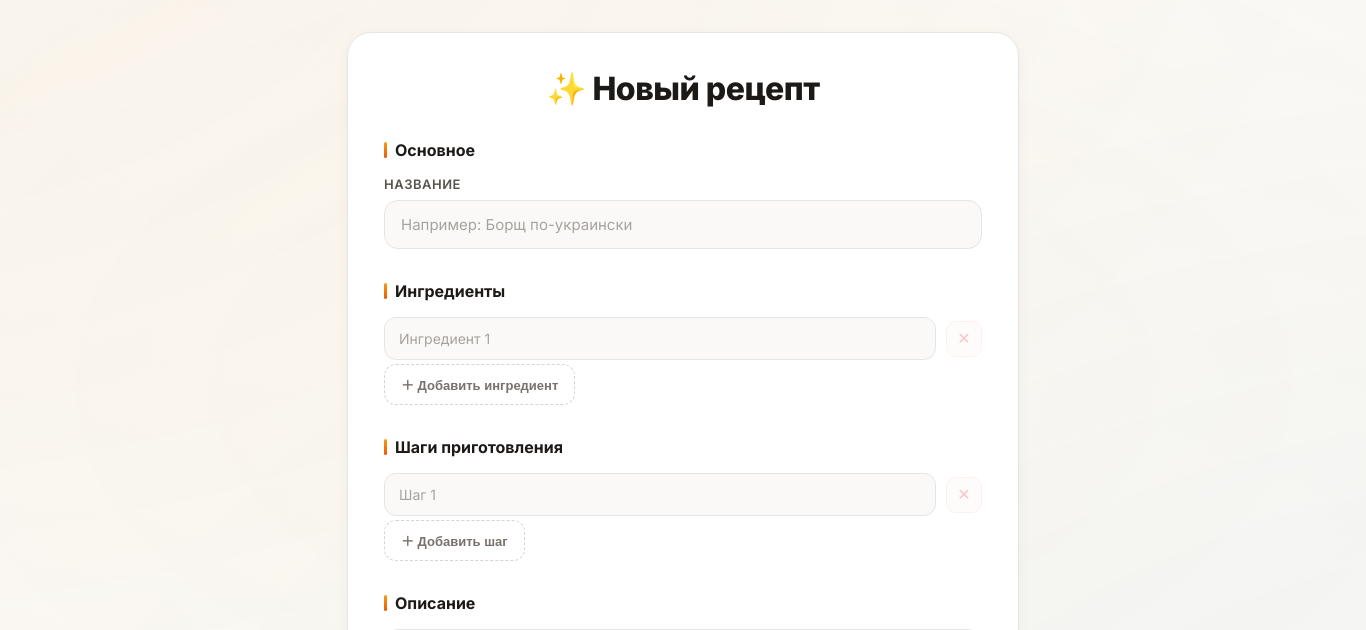
RecipeForm.vue › Ingredients management › should add ingredient when clicking add button
This screenshot has width=1366, height=630.
Click the button with class "form-list__add" showing "＋ Добавить ингредиент". click: x=480, y=384
box: [384,364,575,405]
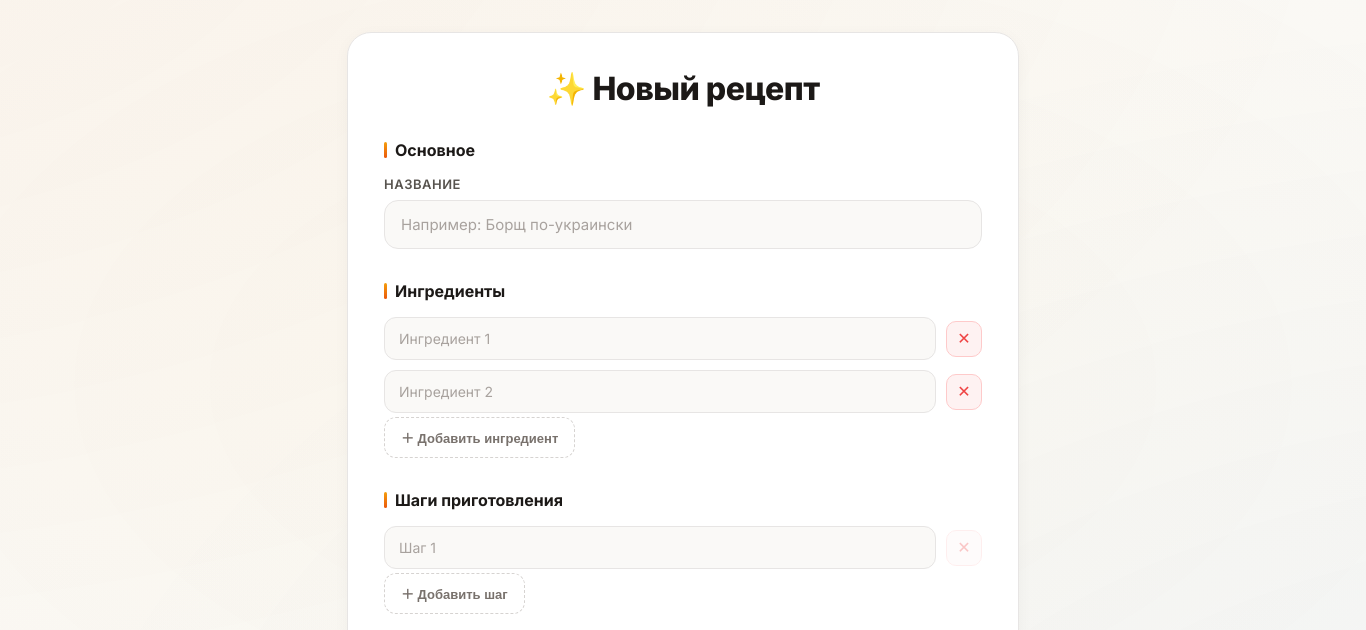
expect the number of elements with class "form-list__item" is 3: met, box [384,317,982,360]; [384,370,982,413]; [384,526,982,569]
